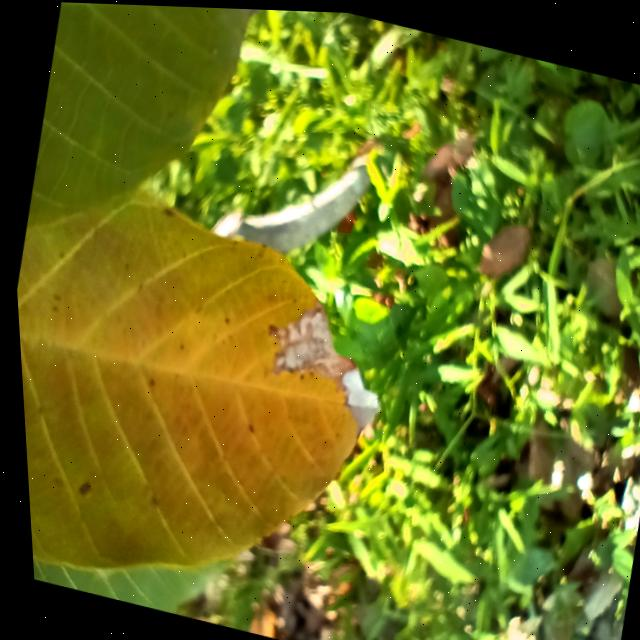Leaf-Blight: (259, 293, 361, 388), (326, 361, 383, 431)
